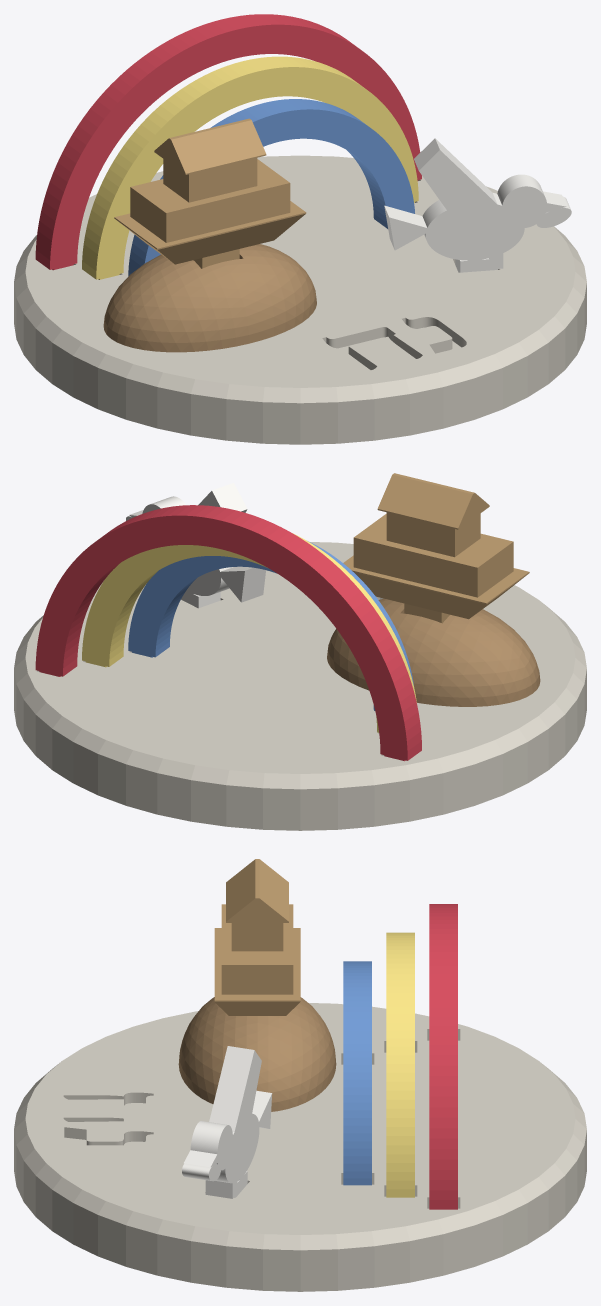
Rendered from noach.glb.
3 views of the same model, one above another, from view 1: azimuth 30°, elevation 25°; view 2: azimuth 150°, elevation 25°; view 3: azimuth 270°, elevation 25° (orthographic).
Visible parts, largest first — view 1: stage, band-1, ark, mountain, band-2, dove, band-3; view 2: stage, band-1, ark, mountain, band-2, band-3, dove; view 3: stage, ark, mountain, band-1, dove, band-2, band-3.
Part boxes in pixels (x1,y1,x2,y2): stage: (14, 155, 586, 444); band-1: (35, 14, 421, 270); ark: (114, 118, 306, 268); mountain: (103, 244, 316, 352); band-2: (82, 56, 418, 279); dove: (384, 138, 571, 272); band-3: (128, 99, 414, 276); stage: (14, 542, 586, 830); band-1: (35, 505, 421, 761); ark: (343, 473, 529, 623); mountain: (327, 598, 540, 706); band-2: (82, 533, 416, 732); band-3: (128, 541, 413, 710); dove: (126, 483, 265, 608); stage: (14, 1003, 586, 1291); ark: (214, 859, 300, 1015); mountain: (178, 997, 336, 1111); band-1: (429, 904, 457, 1209); dove: (182, 1046, 272, 1198); band-2: (386, 932, 414, 1197); band-3: (343, 961, 371, 1185).
Size of the model in its own units: 40 by 19 by 40.
